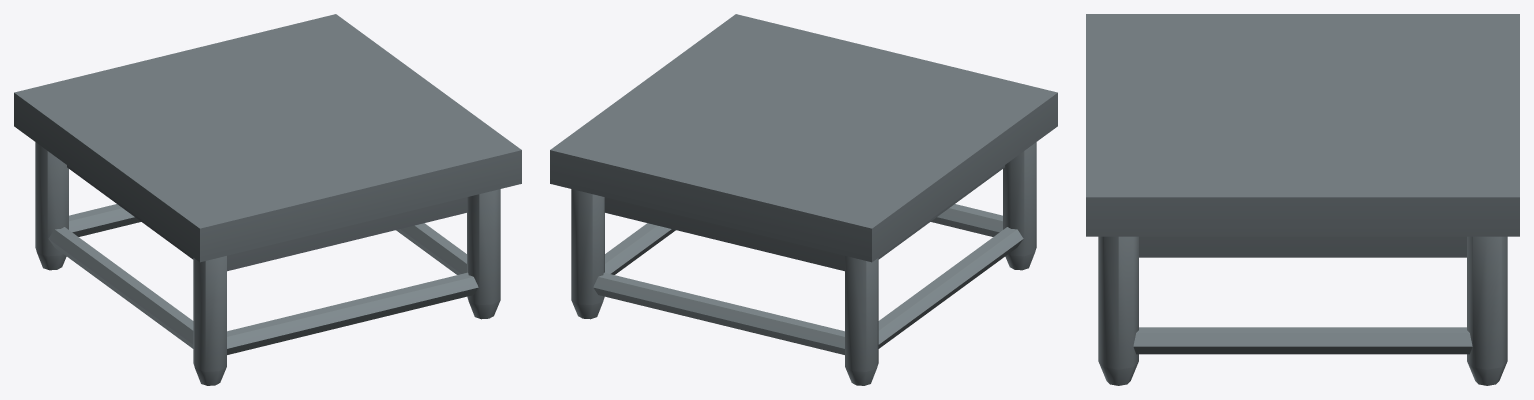
The model's file is kay-kitchentable_a.glb.
3 views of the same model, side by side, from view 1: azimuth 30°, elevation 25°; view 2: azimuth 150°, elevation 25°; view 3: azimuth 270°, elevation 25° (orthographic). The views are drawn at different scales.
Parts seen in each view (by area): view 1: kitchentable_A; view 2: kitchentable_A; view 3: kitchentable_A.
Part boxes in pixels (x1,y1,x2,y2): kitchentable_A: (14,14,521,385); kitchentable_A: (550,14,1057,385); kitchentable_A: (1086,14,1519,385).
Size of the model in its own units: 1.8 by 0.9034 by 1.8.
Materials: 1 (1 with a texture image).
